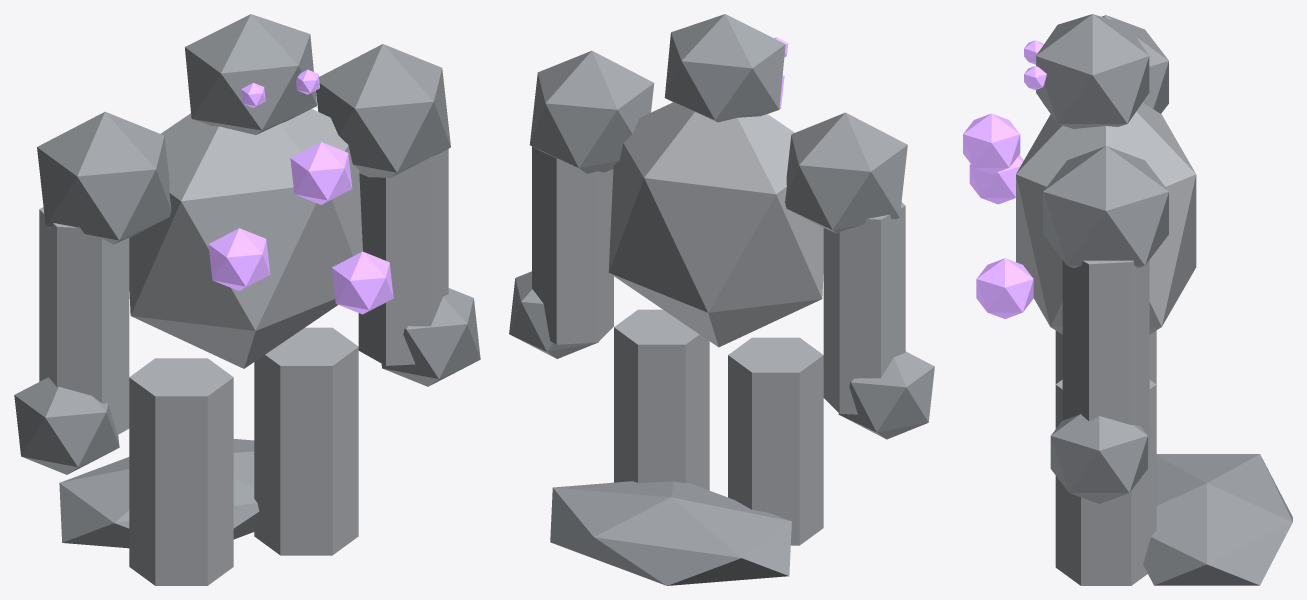
File: stone_elemental.glb
3 views of the same model, side by side, from view 1: azimuth 30°, elevation 25°; view 2: azimuth 150°, elevation 25°; view 3: azimuth 270°, elevation 25° (orthographic). The views are drawn at different scales.
Visible parts, largest first — view 1: torso.001, leg_0.002, leg_1.002, arm_0.003, arm_1.003, shoulder_0, shoulder_1, head.001, rubble, fist_0.001, fist_1.001, crystal_0 (+2 smaller); view 2: torso.001, rubble, leg_0.002, leg_1.002, arm_1.003, arm_0.003, shoulder_0, shoulder_1, head.001, fist_0.001, fist_1.001; view 3: rubble, torso.001, arm_1.003, shoulder_1, head.001, leg_1.002, fist_1.001, crystal_2, crystal_1, shoulder_0, crystal_0, leg_0.002.
Part boxes in pixels (box(x1,y1,x2,y2)): torso.001: box(129, 109, 362, 368); leg_0.002: box(129, 358, 233, 585); leg_1.002: box(254, 327, 358, 555); arm_0.003: box(39, 207, 129, 434); arm_1.003: box(358, 149, 448, 365); shoulder_0: box(37, 111, 171, 244); shoulder_1: box(316, 44, 450, 178); head.001: box(185, 14, 316, 134); rubble: box(59, 439, 259, 548); fist_0.001: box(14, 377, 119, 474); fist_1.001: box(381, 288, 480, 386); crystal_0: box(208, 228, 270, 291); torso.001: box(608, 102, 823, 347); rubble: box(550, 481, 791, 585); leg_0.002: box(728, 337, 823, 545); leg_1.002: box(614, 309, 709, 490); arm_1.003: box(532, 146, 613, 344); arm_0.003: box(823, 202, 905, 414); shoulder_0: box(785, 112, 907, 233); shoulder_1: box(529, 50, 654, 173); head.001: box(664, 14, 785, 122); fist_0.001: box(838, 351, 934, 439); fist_1.001: box(509, 271, 598, 358); rubble: box(1143, 454, 1292, 585); torso.001: box(1016, 102, 1196, 334); arm_1.003: box(1062, 260, 1149, 453); shoulder_1: box(1043, 146, 1168, 268); head.001: box(1036, 14, 1149, 128); leg_1.002: box(1055, 379, 1156, 585); fist_1.001: box(1050, 414, 1147, 503); crystal_2: box(963, 113, 1020, 174); crystal_1: box(976, 258, 1033, 318); shoulder_0: box(1043, 15, 1168, 113); crystal_0: box(969, 155, 1023, 204); leg_0.002: box(1055, 330, 1156, 384).
Bounding box in the file's own units: 1.5 × 1.78 × 0.9803.
